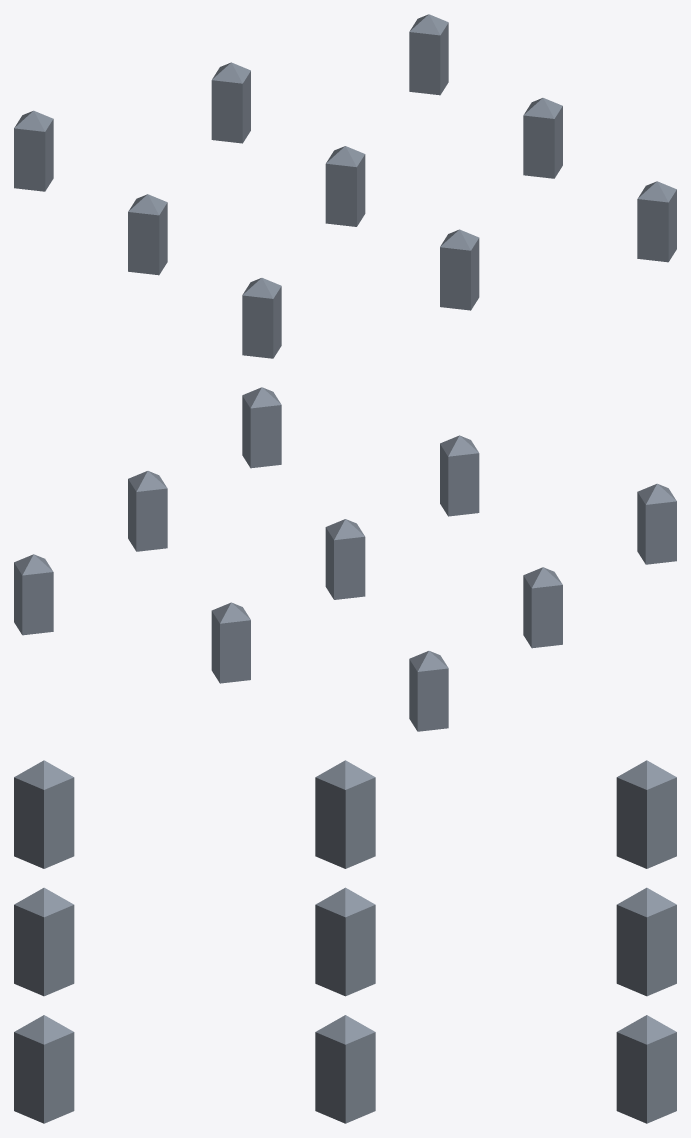
File: spike_cluster.glb
3 views of the same model, one above another, from view 1: azimuth 30°, elevation 25°; view 2: azimuth 150°, elevation 25°; view 3: azimuth 270°, elevation 25° (orthographic). The views are drawn at different scales.
Parts seen in each view (by area): view 1: spikes; view 2: spikes; view 3: spikes.
Boxes of the visible parts, x1=… form: spikes: x1=14, y1=14, x2=676, y2=358; spikes: x1=14, y1=387, x2=676, y2=731; spikes: x1=14, y1=760, x2=676, y2=1123.
Bounding box in the file's own units: 1 × 0.16 × 1.
